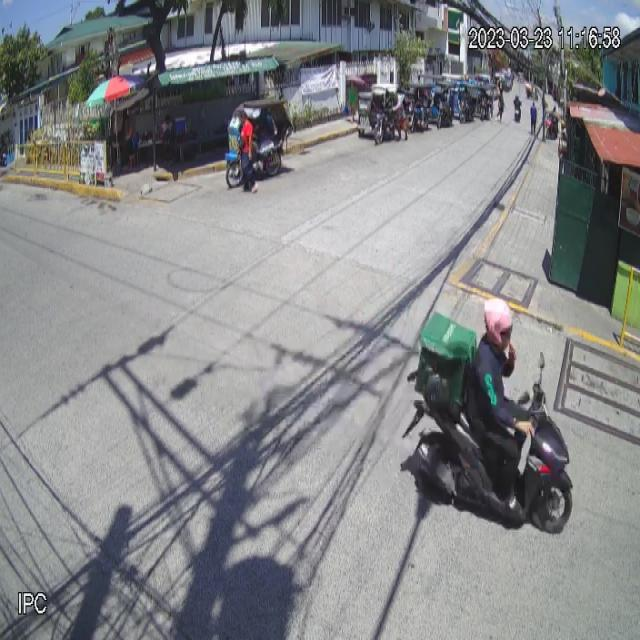Motorcycle: (402, 351, 574, 535)
